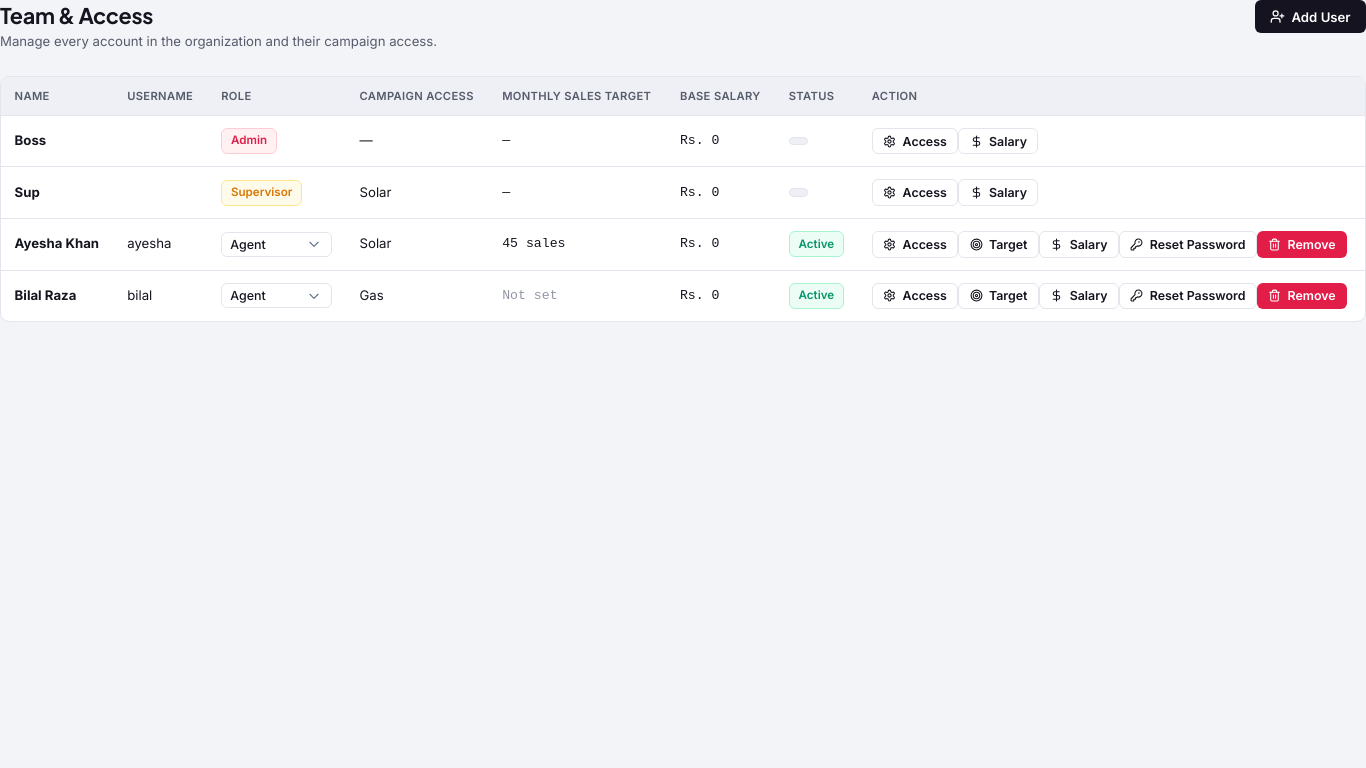
Scenario: TeamManagement role changes › shows the reason when a change is refused
This screenshot has width=1366, height=768.
Select "Admin" in the dropdown named "Role for Ayesha Khan" at (277, 244), box [221,232,332,257]
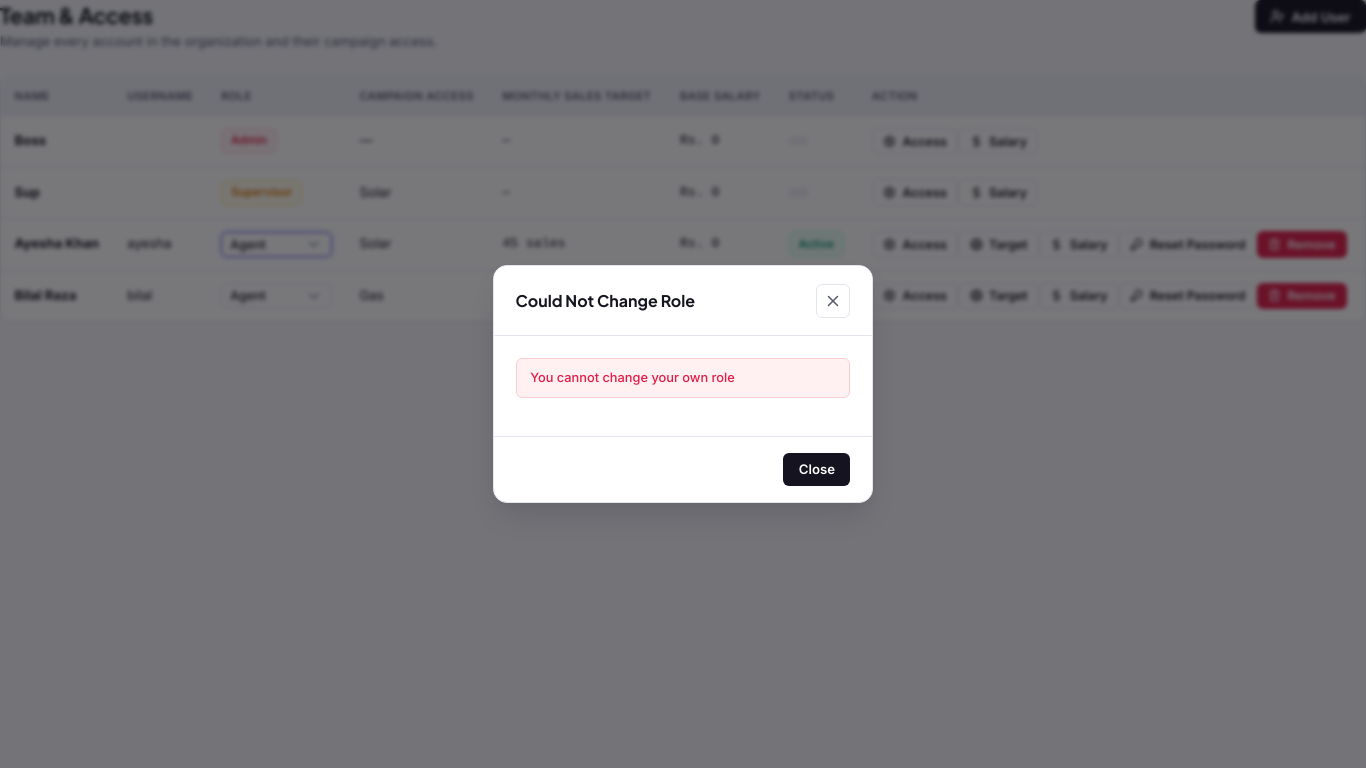
Result: the text "You cannot change your own role" is shown at [516,358,850,398]
